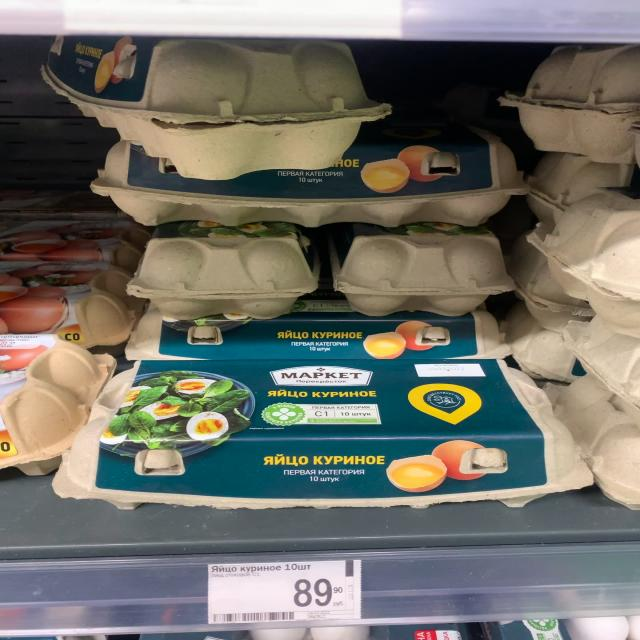egg box: (50, 353, 594, 513), (21, 32, 391, 171), (86, 128, 528, 237), (121, 293, 514, 364)
